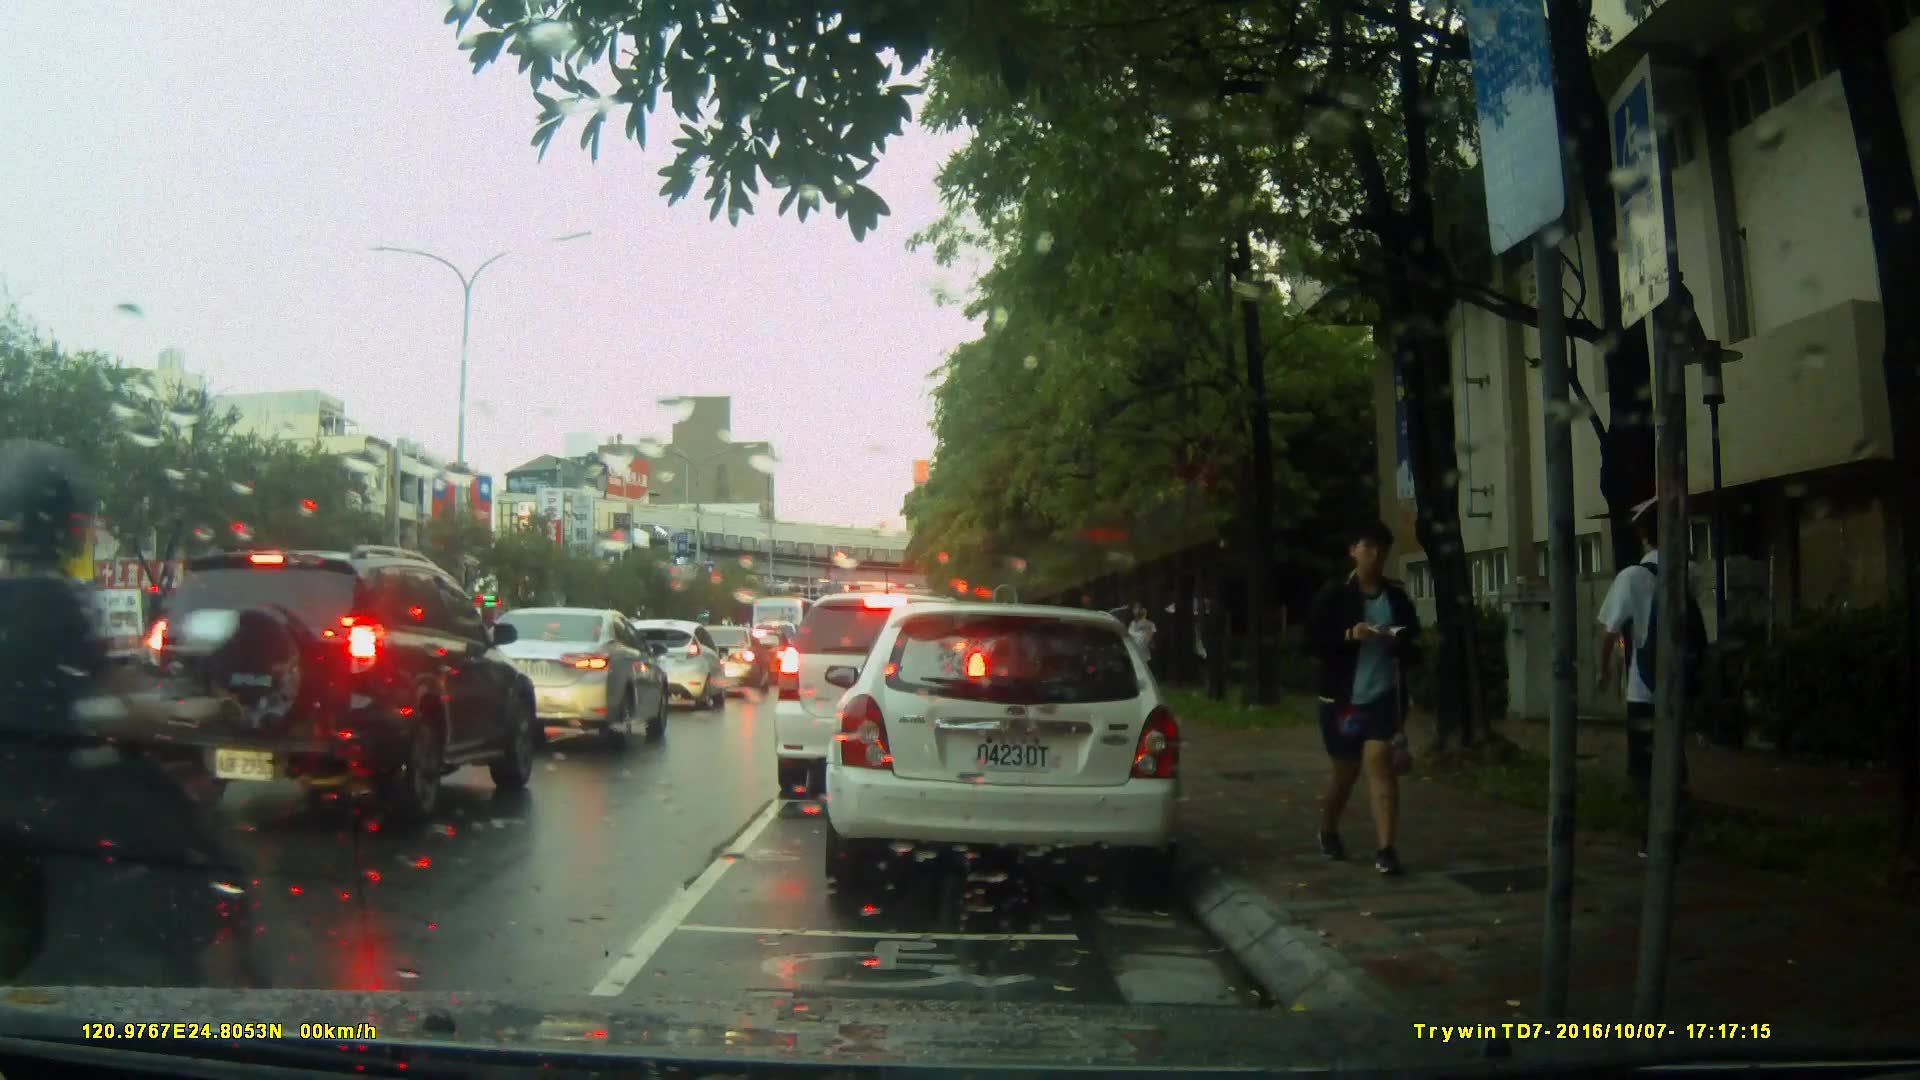pedestrian: (1585, 465, 1733, 881), (1286, 514, 1443, 882), (1118, 588, 1164, 730)
rider: (1, 438, 301, 1061)
vehicle: (133, 543, 538, 832), (815, 593, 1200, 896), (770, 590, 995, 802), (469, 607, 679, 750), (1, 584, 150, 686), (605, 617, 730, 713), (688, 625, 764, 691)
